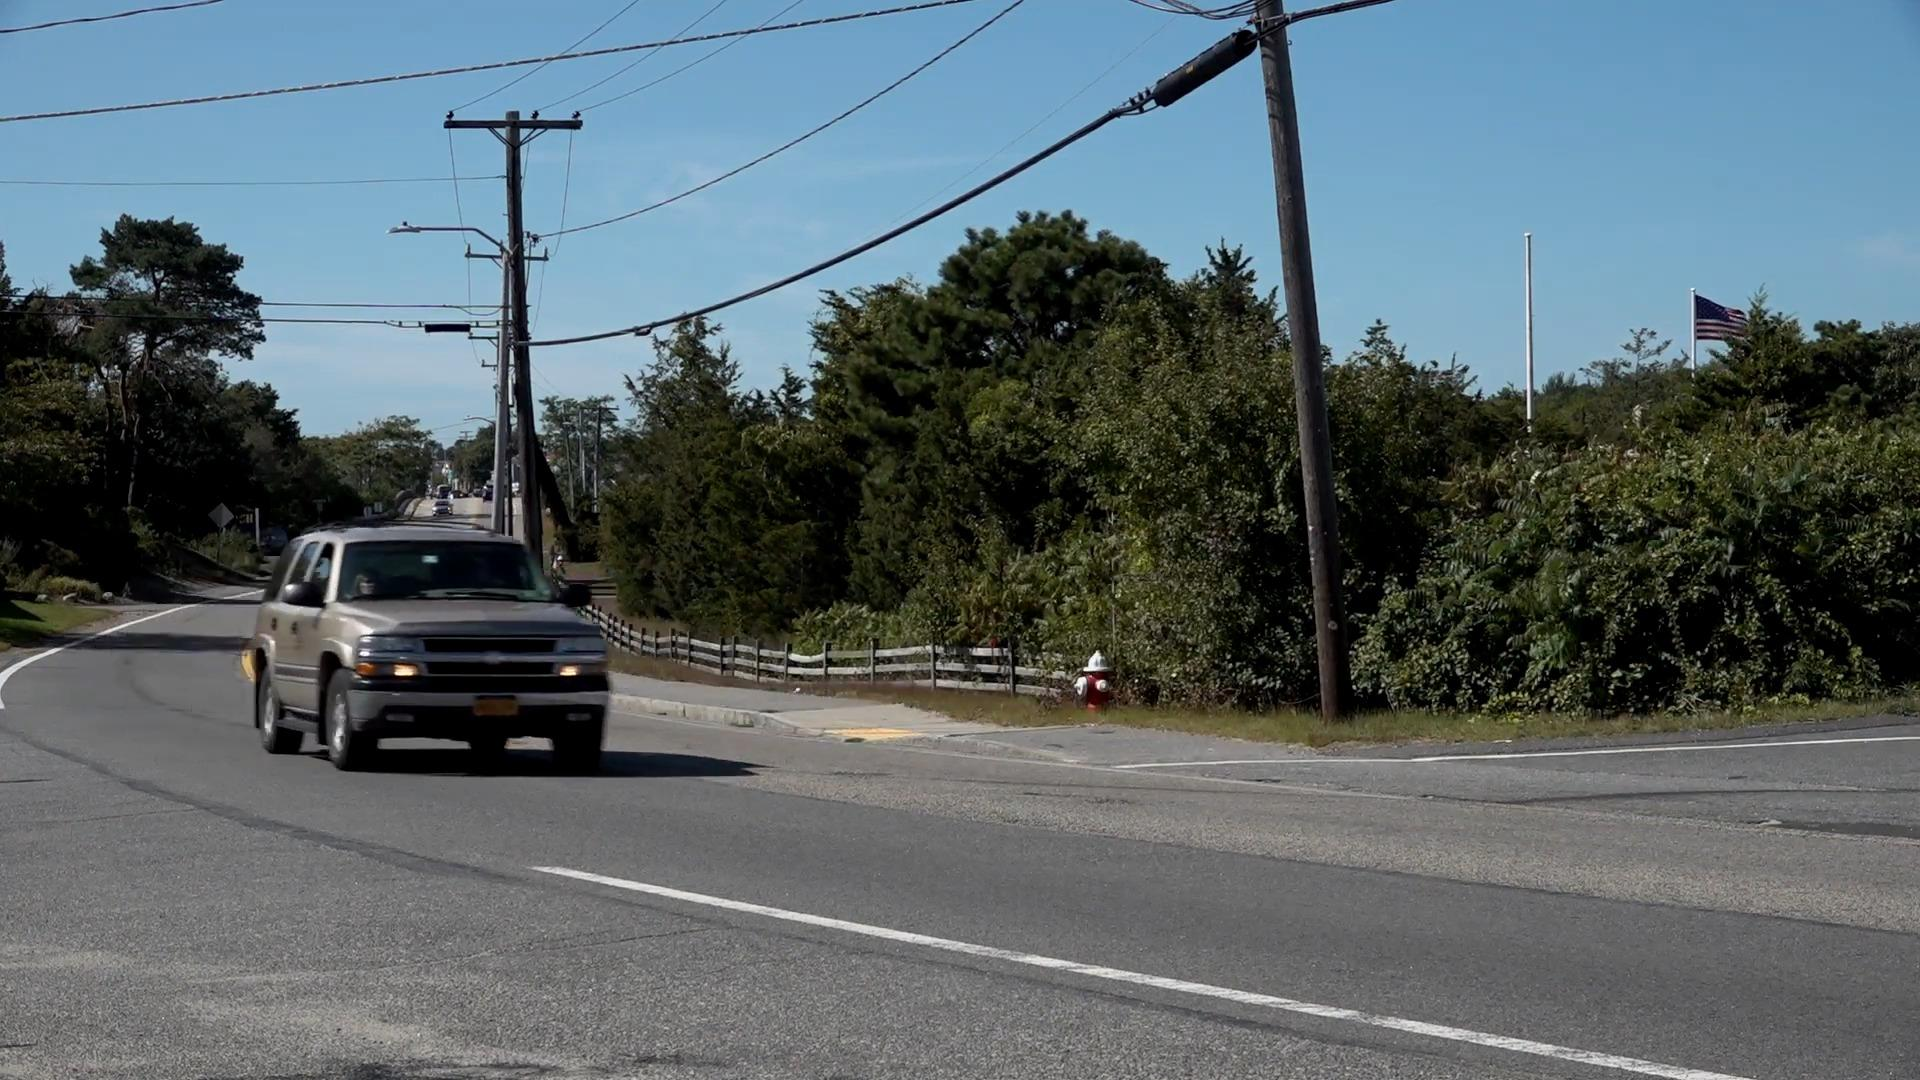suv: (255, 527, 612, 766)
